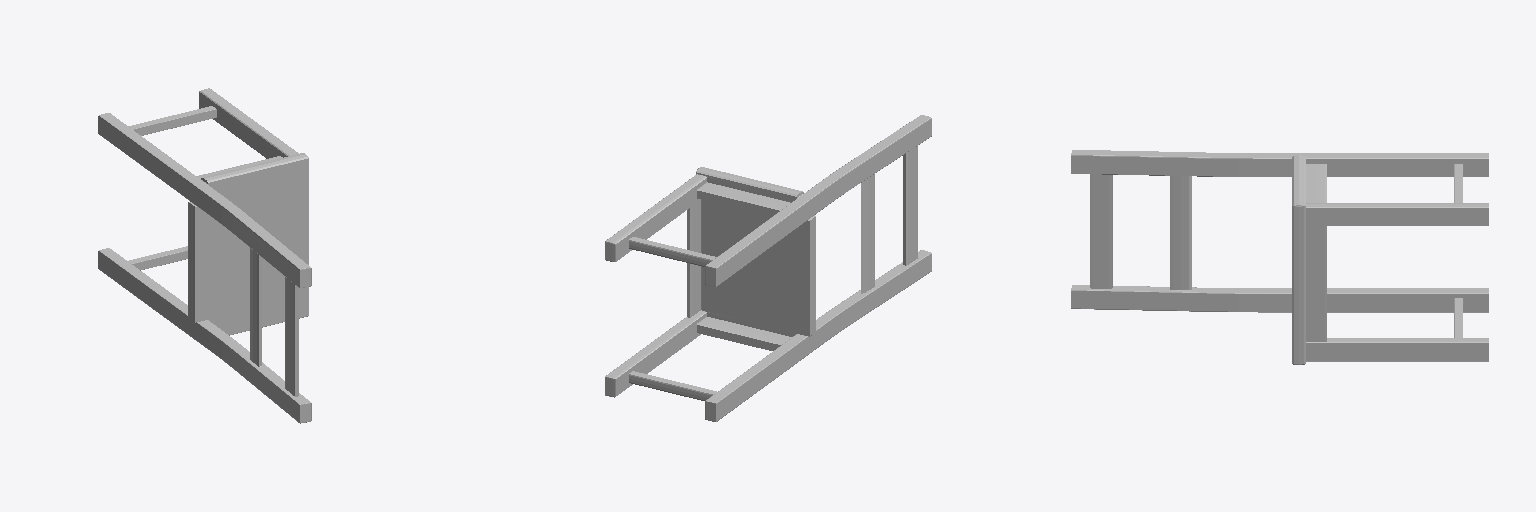
The model's file is sediaLx.obj.
3 renders of one model, left to right at view 1: azimuth 30°, elevation 25°; view 2: azimuth 150°, elevation 25°; view 3: azimuth 270°, elevation 25°, orthographic.
Visible parts, largest first — view 1: sedia_04_Ivar_Pinea_Plane.003; view 2: sedia_04_Ivar_Pinea_Plane.003; view 3: sedia_04_Ivar_Pinea_Plane.003.
Boxes of the visible parts, box(x1,y1,x2,y2) form: sedia_04_Ivar_Pinea_Plane.003: box(98, 88, 311, 423); sedia_04_Ivar_Pinea_Plane.003: box(605, 115, 931, 421); sedia_04_Ivar_Pinea_Plane.003: box(1071, 150, 1488, 364).
Size of the model in its own units: 1.57 by 2.01 by 4.74.